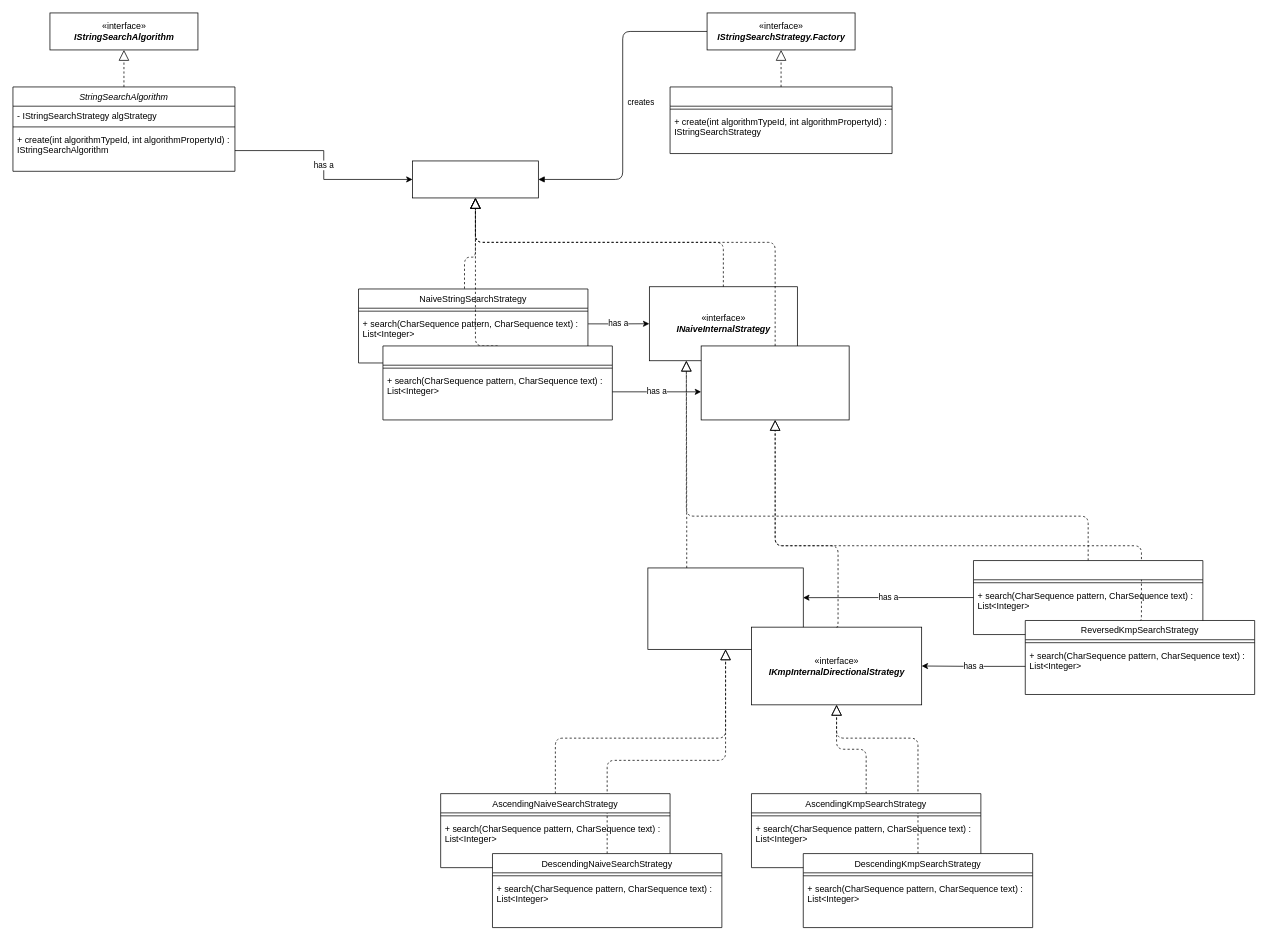
The diagram is 1268 pixels wide and 941 high, and some of its shapes have lost their labels. Each missing label, with the box of its shape:
KmpStringSearchStrategy: (382, 345, 612, 420)
ReversedNaiveSearchStrategy: (973, 560, 1203, 635)
StringSearchStrategyFactory: (669, 86, 892, 154)
«interface» IKmpInternalStrategy: (700, 345, 849, 420)
«interface» INaiveInternalDirectionalStrategy: (647, 567, 803, 649)
«interface» IStringSearchAlgoStrategy: (412, 160, 538, 198)
